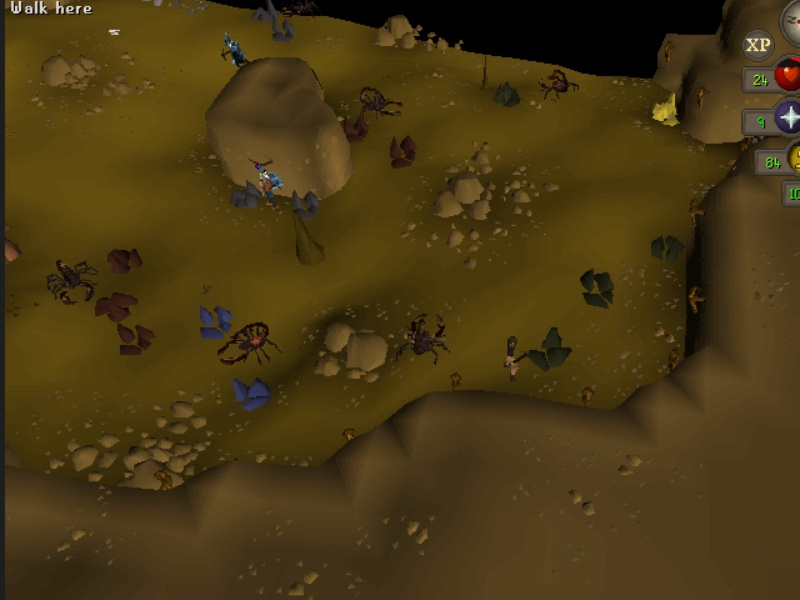coal: (521, 323, 575, 374), (578, 265, 618, 311), (648, 232, 686, 265), (492, 79, 523, 112)
gold: (650, 90, 683, 130)
iron: (112, 320, 159, 358), (93, 289, 141, 323), (105, 245, 148, 278), (388, 130, 421, 170), (340, 113, 373, 147)
mithril: (193, 300, 237, 342), (229, 375, 276, 413)
